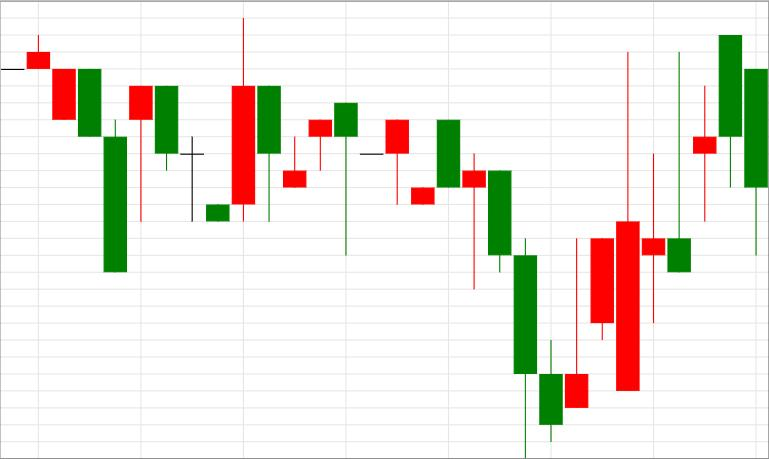inverse_hammer_rise: (463, 152, 589, 458)
